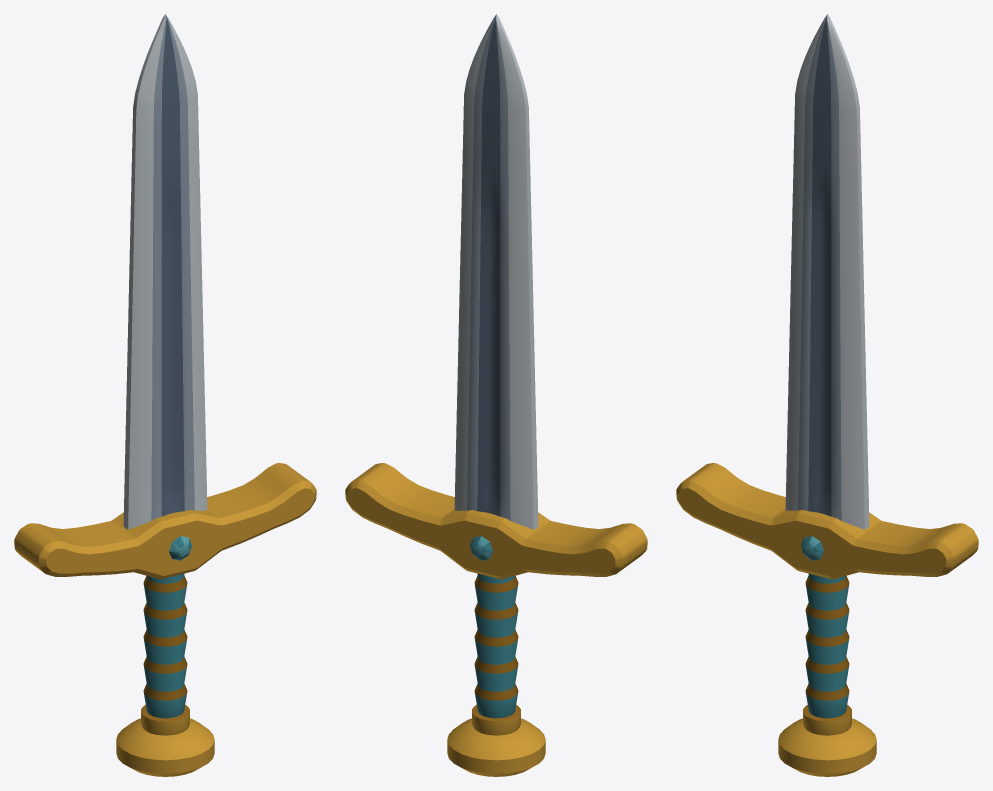
Rendered from Longsword_07.glb.
The picture shows the model from 3 angles, left to right: view 1: azimuth 30°, elevation 25°; view 2: azimuth 150°, elevation 25°; view 3: azimuth 330°, elevation 25°; orthographic projection.
Visible parts, largest first — view 1: Longsword_07; view 2: Longsword_07; view 3: Longsword_07.
Part boxes in pixels (x1,y1,x2,y2): Longsword_07: [14, 14, 316, 776]; Longsword_07: [345, 14, 647, 776]; Longsword_07: [676, 14, 978, 776].
Size of the model in its own units: 2.53 by 6.48 by 0.7748.
